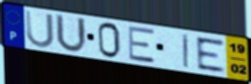0: (97, 22, 123, 59)
E: (194, 36, 228, 74), (127, 26, 158, 65)
I: (181, 33, 191, 70)
U: (54, 12, 89, 54), (24, 9, 56, 50)
